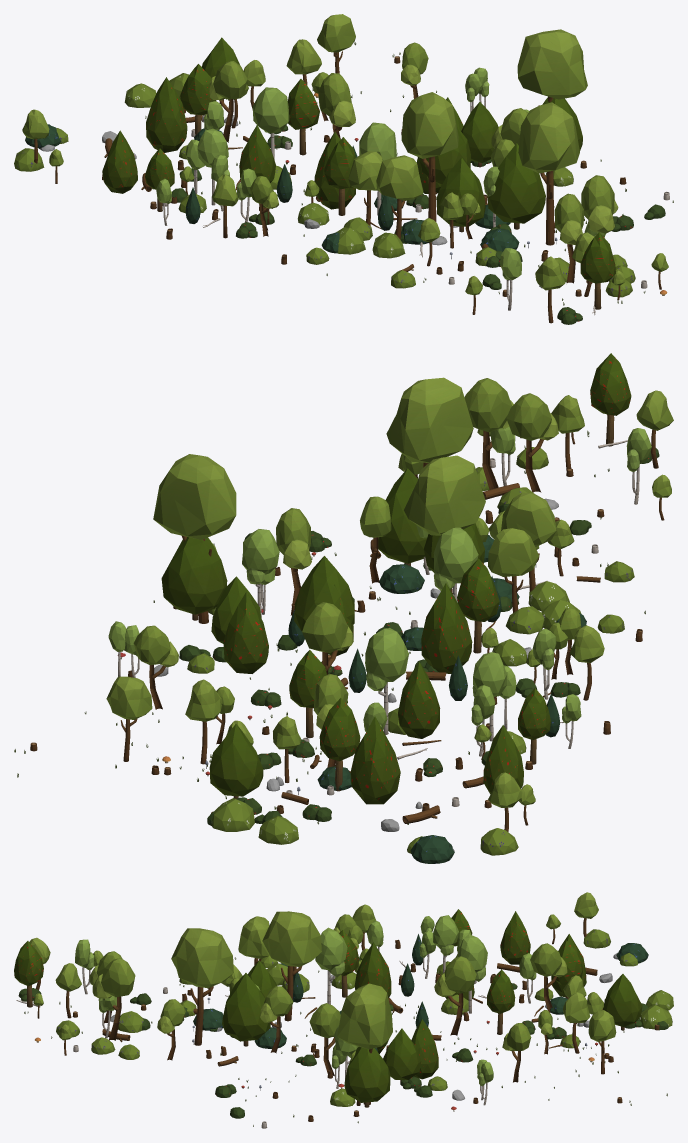
3 views of the same model, one above another, from view 1: azimuth 30°, elevation 25°; view 2: azimuth 150°, elevation 25°; view 3: azimuth 270°, elevation 25° (orthographic). The views are drawn at different scales.
Parts seen in each view (by area): view 1: Beechtree3 - copy.006, Beechtree3 - copy.018, Beechtree3 - copy.021, Hollytree2 - copy.022, Hollytree3 - copy.031, Beechtree3 - copy.031, Hollytree2 - copy.036, Beechtree2 - copy.039, Beechtree2 - copy.026, Hollytree3 - copy.028, Hollytree1 - copy.012, BirchTree3 - copy.038 (+34 smaller); view 2: Beechtree3 - copy.018, Beechtree3 - copy.006, Beechtree3 - copy.021, Hollytree2 - copy.004, Hollytree3 - copy.007, Hollytree3 - copy.031, Hollytree2 - copy.011, Hollytree3 - copy.033, Hollytree2 - copy.022, Beechtree2 - copy.039, Hollytree2 - copy.027, BirchTree3 - copy.038 (+37 smaller); view 3: Beechtree3 - copy.006, Beechtree3 - copy.021, Beechtree3 - copy.018, Hollytree2 - copy.022, Hollytree2 - copy.004, Beechtree2 - copy.039, Beechtree2 - copy.026, Hollytree2 - copy.011, Hollytree2 - copy.020, BirchTree3 - copy.015, Hollytree3 - copy.007, Beechtree2 - copy.027 (+34 smaller).
Boxes of the visible parts, x1,y1,x2,y2 form: Beechtree3 - copy.006: [518, 102, 579, 245]; Beechtree3 - copy.018: [517, 29, 587, 105]; Beechtree3 - copy.021: [401, 92, 458, 221]; Hollytree2 - copy.022: [487, 143, 545, 229]; Hollytree3 - copy.031: [146, 77, 187, 152]; Beechtree3 - copy.031: [376, 155, 423, 239]; Hollytree2 - copy.036: [436, 157, 485, 232]; Beechtree2 - copy.039: [581, 175, 614, 233]; Beechtree2 - copy.026: [318, 73, 355, 139]; Hollytree3 - copy.028: [102, 130, 137, 193]; Hollytree1 - copy.012: [580, 232, 615, 309]; BirchTree3 - copy.038: [252, 87, 289, 159]; Beechtree3 - copy.018: [153, 454, 236, 623]; Beechtree3 - copy.006: [386, 377, 473, 467]; Beechtree3 - copy.021: [404, 455, 485, 593]; Hollytree2 - copy.004: [161, 537, 227, 620]; Hollytree3 - copy.007: [421, 583, 472, 673]; Hollytree3 - copy.031: [350, 716, 400, 804]; Hollytree2 - copy.011: [209, 724, 263, 798]; Hollytree3 - copy.033: [223, 591, 268, 673]; Hollytree2 - copy.022: [373, 468, 426, 566]; Beechtree2 - copy.039: [464, 378, 513, 489]; Hollytree2 - copy.027: [294, 556, 354, 631]; BirchTree3 - copy.038: [365, 628, 408, 734]; Beechtree3 - copy.006: [171, 928, 233, 1045]; Beechtree3 - copy.021: [262, 911, 321, 1021]; Beechtree3 - copy.018: [337, 983, 392, 1104]; Hollytree2 - copy.022: [222, 973, 270, 1046]; Hollytree2 - copy.004: [344, 1046, 390, 1107]; Beechtree2 - copy.039: [92, 958, 135, 1040]; Beechtree2 - copy.026: [434, 956, 476, 1035]; Hollytree2 - copy.011: [603, 974, 642, 1030]; Hollytree2 - copy.020: [383, 1028, 421, 1083]; BirchTree3 - copy.015: [315, 927, 347, 1004]; Hollytree3 - copy.007: [354, 942, 391, 998]; Beechtree2 - copy.027: [530, 943, 567, 1012].
Size of the model in its own units: 62.98 by 20.81 by 91.49.
Materials: 32 (32 with a texture image).
